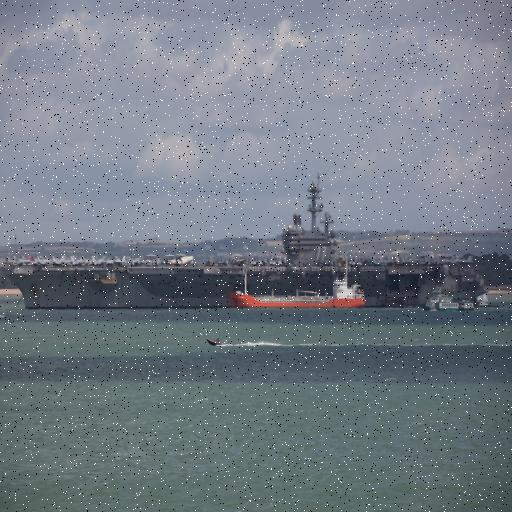Portanaves: (4, 171, 497, 315)
